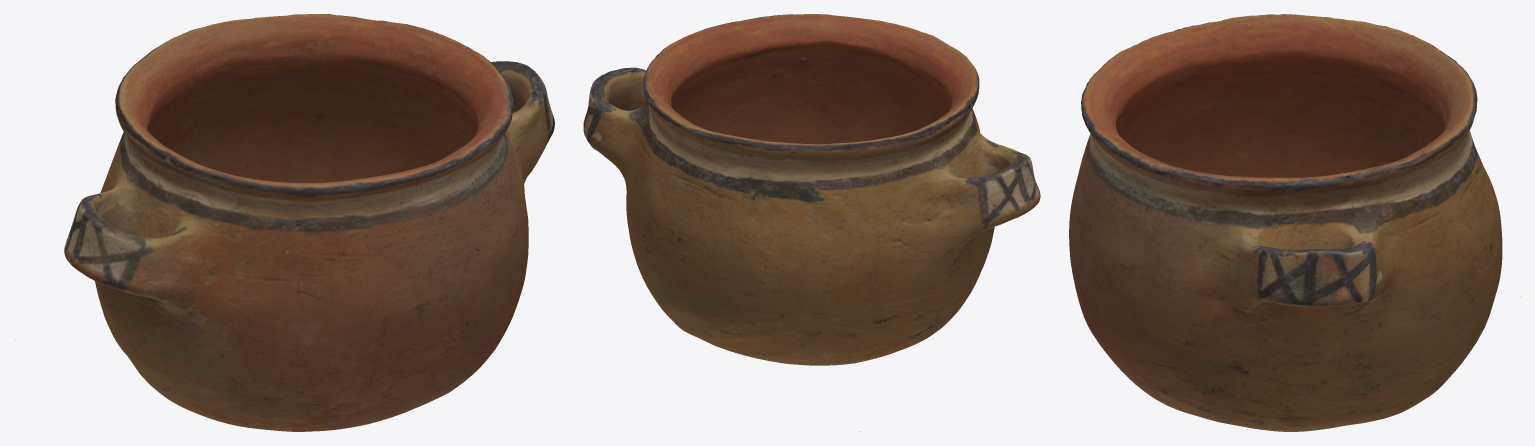
File: Olla.glb
3 views of the same model, side by side, from view 1: azimuth 30°, elevation 25°; view 2: azimuth 150°, elevation 25°; view 3: azimuth 270°, elevation 25° (orthographic). The views are drawn at different scales.
Visible parts, largest first — view 1: Object_2; view 2: Object_2; view 3: Object_2.
Boxes of the visible parts, <box> form: Object_2: <box>15,14,554,431</box>; Object_2: <box>583,14,1040,431</box>; Object_2: <box>1069,14,1502,431</box>.
Size of the model in its own units: 0.4538 by 0.2551 by 0.3578.
Materials: 1 (1 with a texture image).
